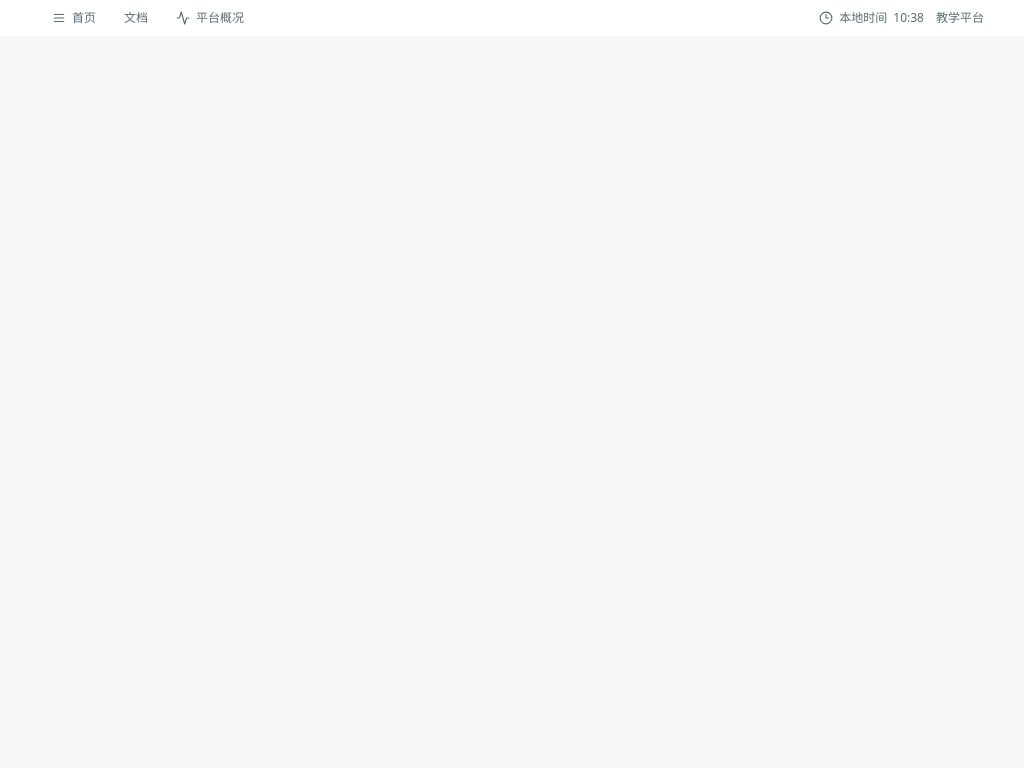
Test case: footer groups information on the left, keeps local time on the right and links to the current team
Later steps or results of the test are not shown.
Expected: the link to "https://example.com/docs" is shown, [124,9,148,26]
Expected: the element showing "本地时间 10:38" is shown, [819,10,924,26]
Click the button with aria-label "平台概况". click: (210, 18)
box: [164,2,256,34]
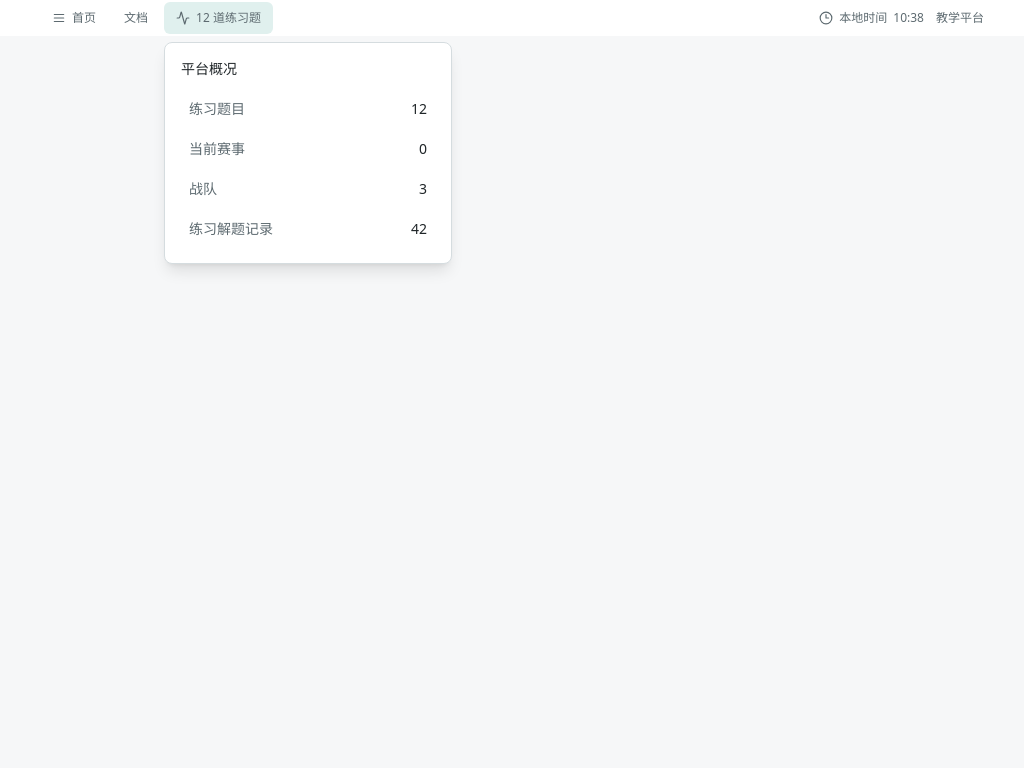
Result: the link to "/contests" reads "当前赛事 0" at [189,139,427,158]
